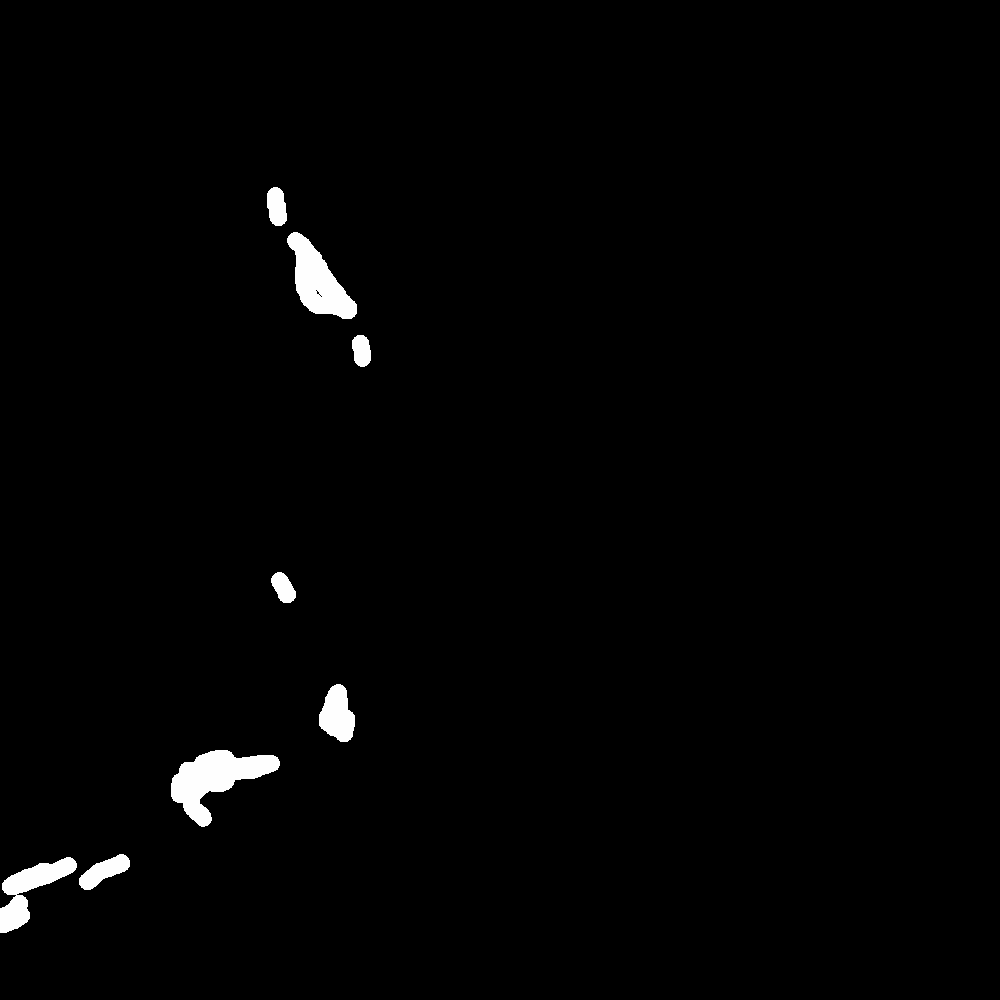illegal: (166, 685, 354, 835), (267, 180, 390, 362)
